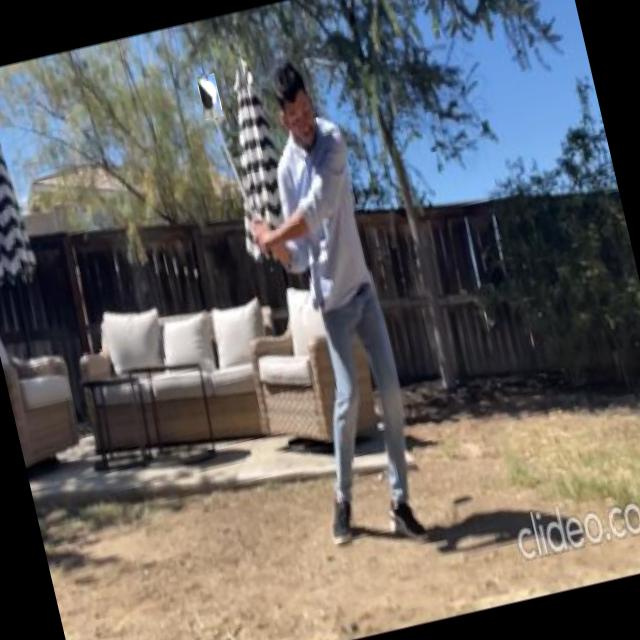club head: (196, 72, 224, 120)
